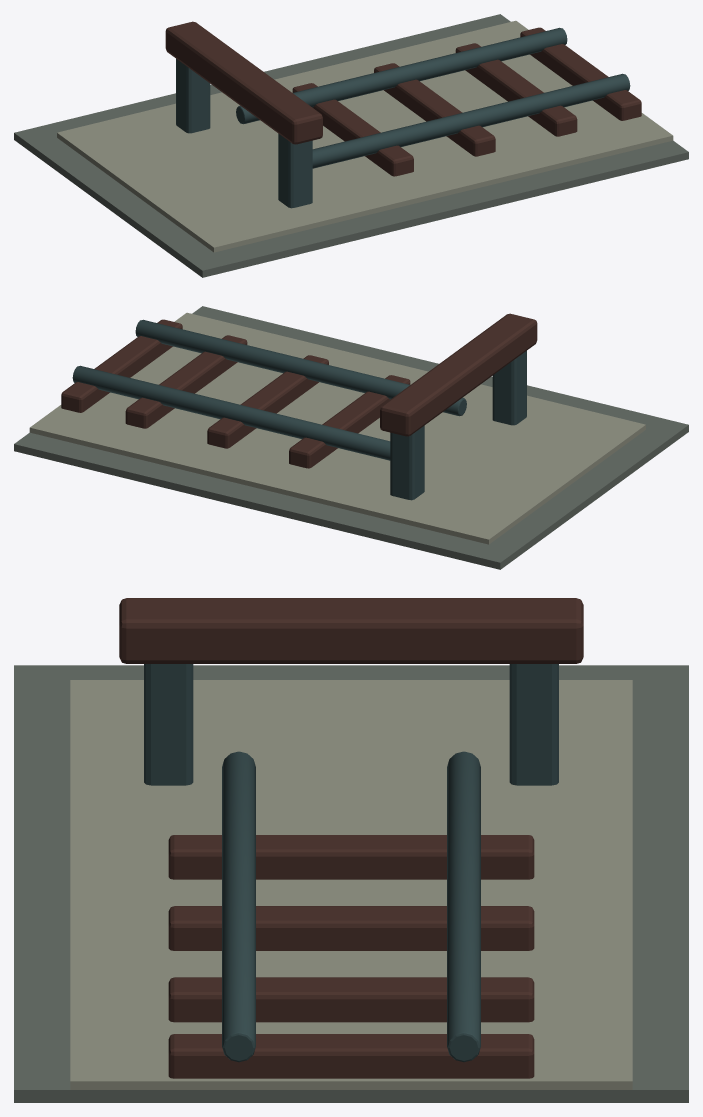
The model's file is tram_end.glb.
3 renders of one model, top to bottom at view 1: azimuth 30°, elevation 25°; view 2: azimuth 150°, elevation 25°; view 3: azimuth 270°, elevation 25°, orthographic. The views are drawn at different scales.
Parts seen in each view (by area): view 1: tram_end · stone, tram_end · stone_dark, tram_end · wood, tram_end · metal; view 2: tram_end · stone, tram_end · stone_dark, tram_end · wood, tram_end · metal; view 3: tram_end · stone, tram_end · wood, tram_end · stone_dark, tram_end · metal.
Part boxes in pixels (<box>): tram_end · stone: <box>57,20,673,252</box>; tram_end · stone_dark: <box>14,14,688,277</box>; tram_end · wood: <box>165,21,641,176</box>; tram_end · metal: <box>176,27,630,208</box>; tram_end · stone: <box>29,312,645,544</box>; tram_end · stone_dark: <box>14,306,688,569</box>; tram_end · wood: <box>61,313,537,468</box>; tram_end · metal: <box>72,319,526,500</box>; tram_end · stone: <box>70,680,632,1089</box>; tram_end · wood: <box>119,598,583,1078</box>; tram_end · stone_dark: <box>14,665,688,1102</box>; tram_end · metal: <box>144,664,558,1062</box>.
Size of the model in its own units: 0.715 by 0.1475 by 0.48.
